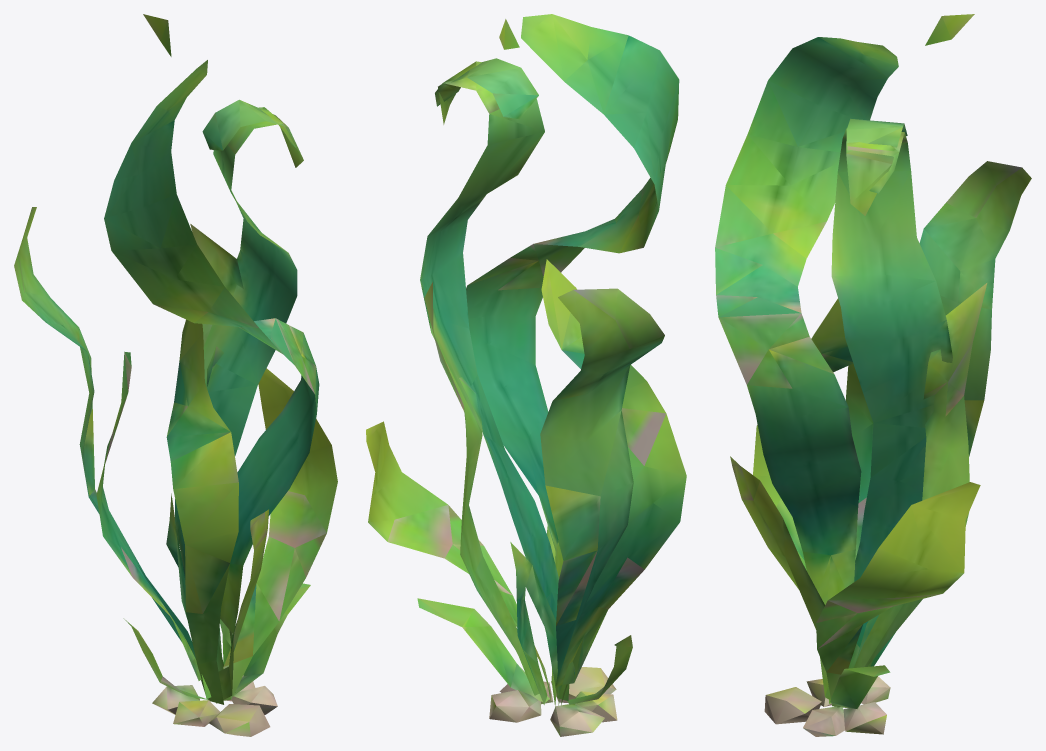
The model's file is alga_3.glb.
3 views of the same model, side by side, from view 1: azimuth 30°, elevation 25°; view 2: azimuth 150°, elevation 25°; view 3: azimuth 270°, elevation 25° (orthographic). The views are drawn at different scales.
Visible parts, largest first — view 1: alga_3_malla; view 2: alga_3_malla; view 3: alga_3_malla.
Part boxes in pixels (box(x1,y1,x2,y2)): alga_3_malla: box(14, 14, 337, 736); alga_3_malla: box(366, 14, 686, 736); alga_3_malla: box(715, 14, 1031, 736).
Bounding box in the file's own units: 0.1877 × 0.427 × 0.1743.
Materials: 1 (1 with a texture image).
